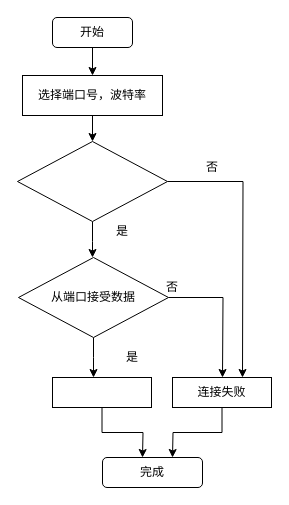
Image size: 289x505. Some labels were removed from this diagram. Here are the shapes that lost their labels. From the top down, the box of each, then its label:
(16, 140, 168, 222): 初始化端口
(52, 376, 152, 408): 连接成功
